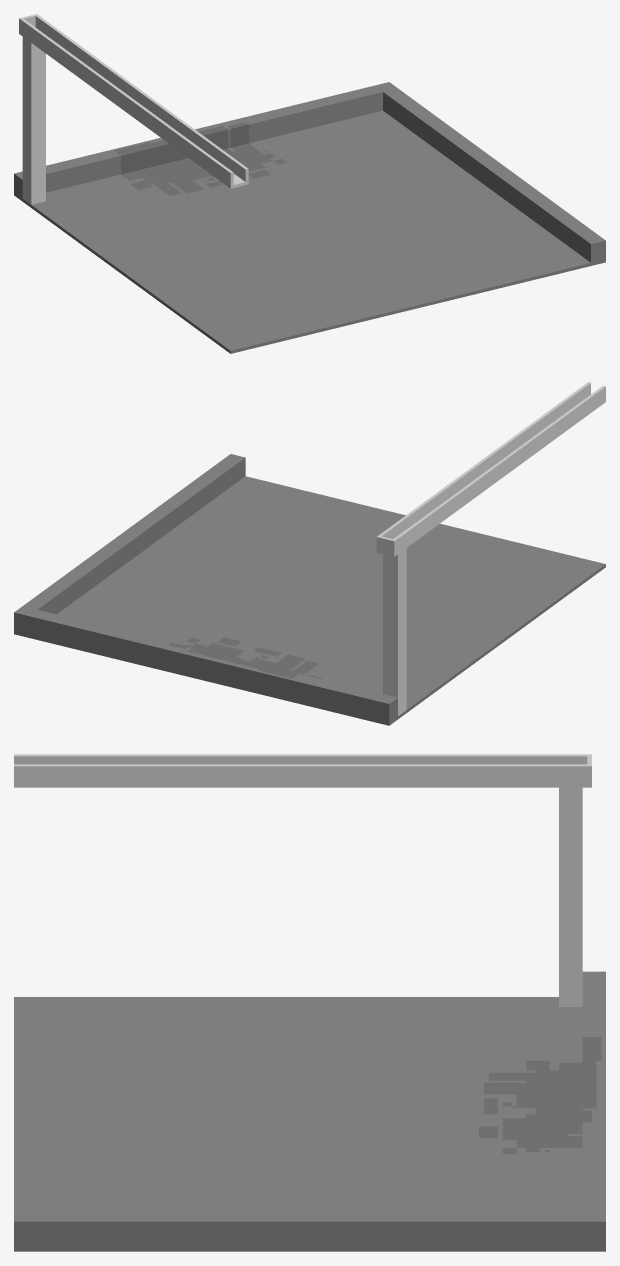
File: 4x2 roof (1)-4.obj
3 views of the same model, one above another, from view 1: azimuth 30°, elevation 25°; view 2: azimuth 150°, elevation 25°; view 3: azimuth 270°, elevation 25° (orthographic). The views are drawn at different scales.
Parts seen in each view (by area): view 1: 4x2 roof (1)-4; view 2: 4x2 roof (1)-4; view 3: 4x2 roof (1)-4.
Part boxes in pixels (x1=…): 4x2 roof (1)-4: x1=14, y1=14, x2=605, y2=353; 4x2 roof (1)-4: x1=14, y1=382, x2=605, y2=725; 4x2 roof (1)-4: x1=14, y1=754, x2=605, y2=1251.
Size of the model in its own units: 126 by 58 by 126.
1 material, 1 textured.
